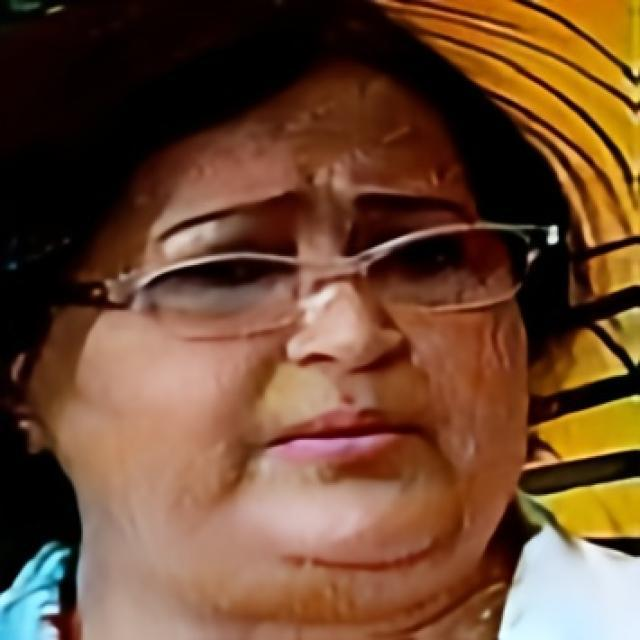sad: (87, 66, 544, 590)
